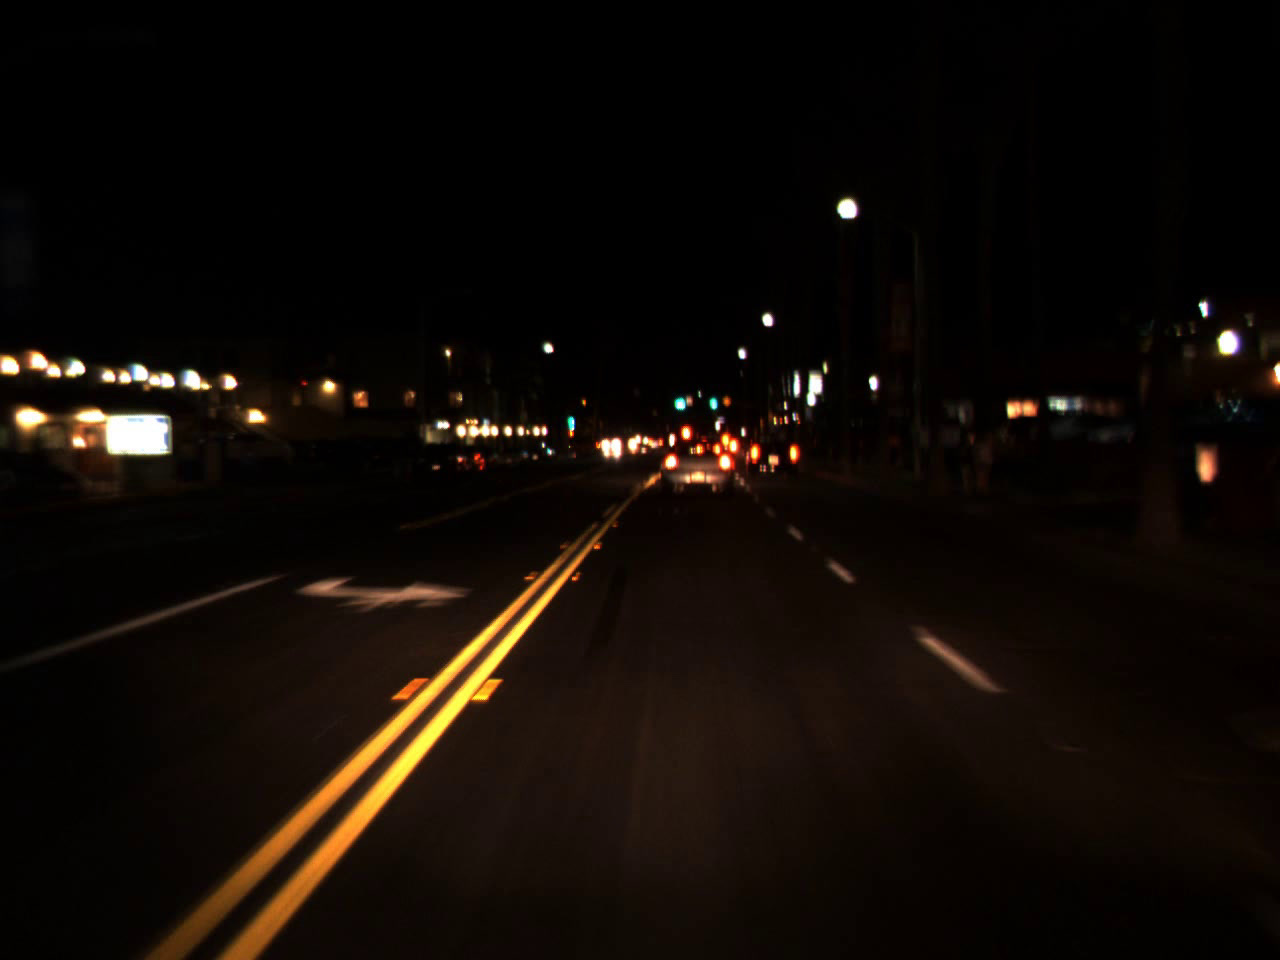go: (566, 403, 575, 433), (673, 385, 682, 412), (709, 386, 718, 413)
